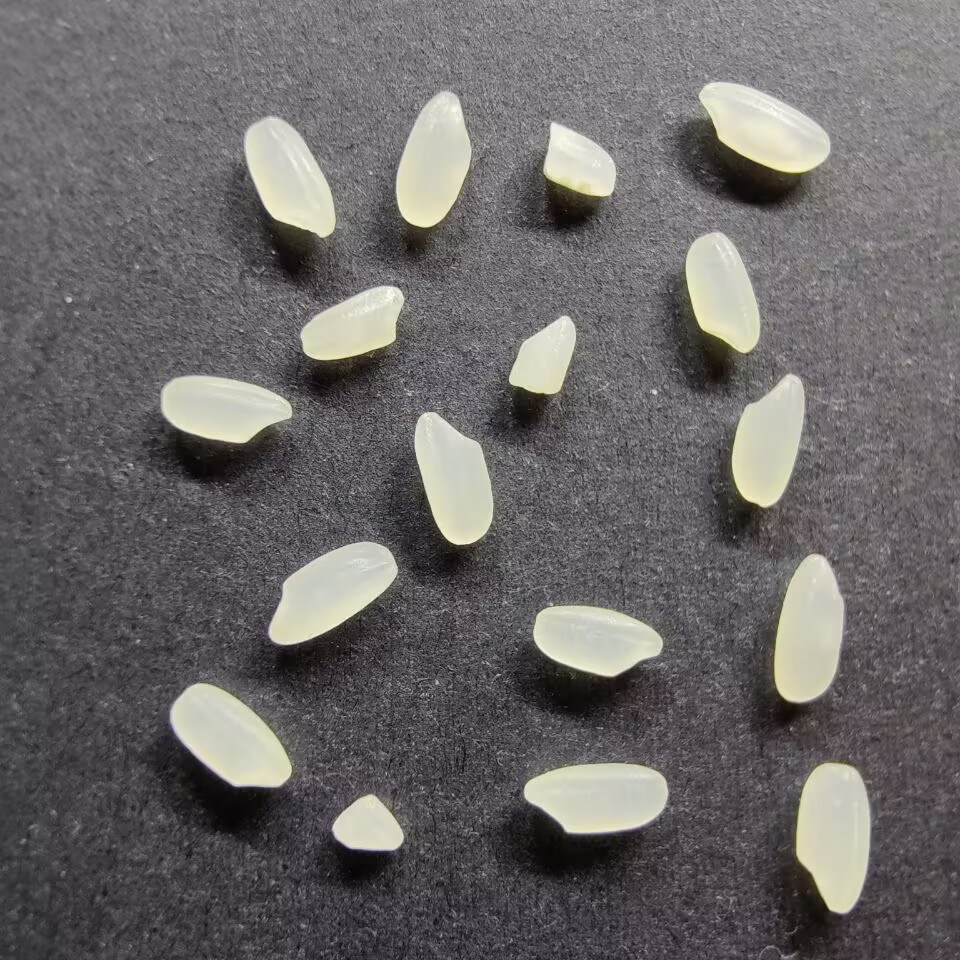broken: (538, 120, 619, 199), (506, 311, 578, 397), (332, 792, 405, 853)
rice: (264, 540, 399, 647), (168, 679, 294, 790), (696, 80, 831, 174), (793, 761, 872, 915), (242, 115, 338, 238), (413, 409, 497, 547), (771, 552, 846, 704), (395, 89, 473, 229), (522, 761, 667, 836), (730, 370, 807, 509), (531, 603, 664, 679), (158, 373, 294, 445), (686, 232, 762, 353), (298, 282, 405, 362)
